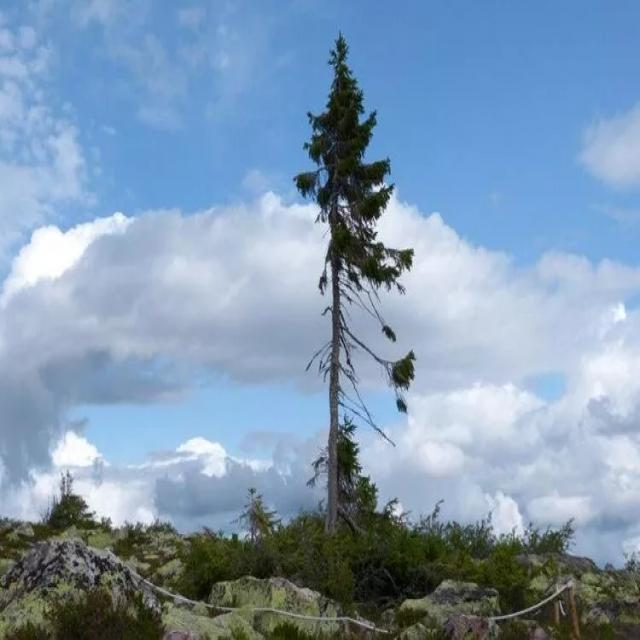tree: (295, 24, 425, 580), (240, 492, 276, 548)
